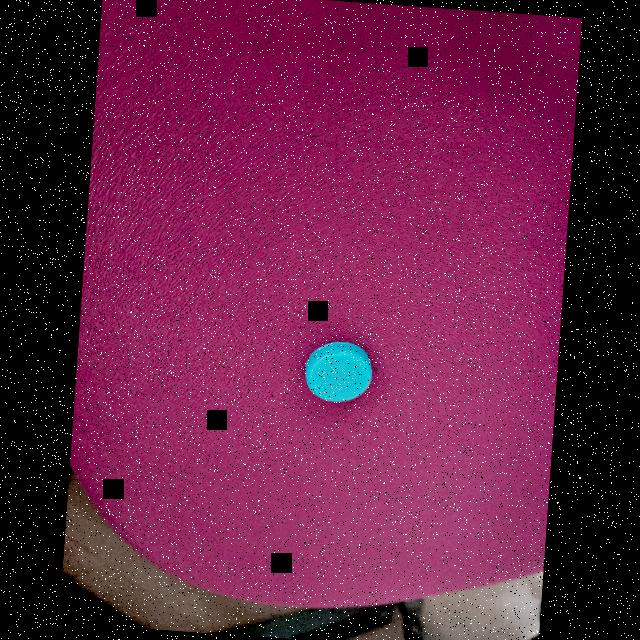plastic_bottle_cap: (300, 339, 378, 410)
